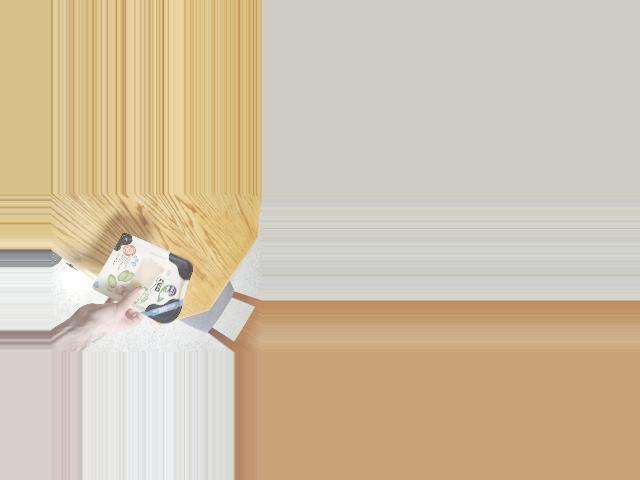cheese: (102, 238, 193, 329)
